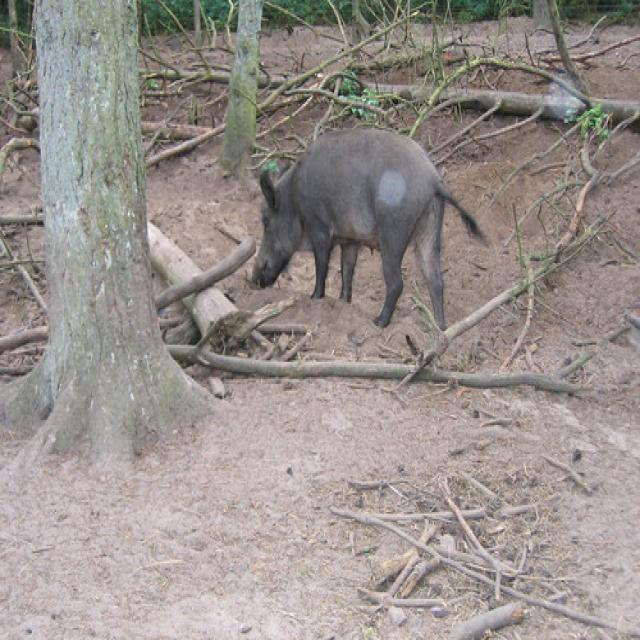boar: (225, 82, 484, 372)
